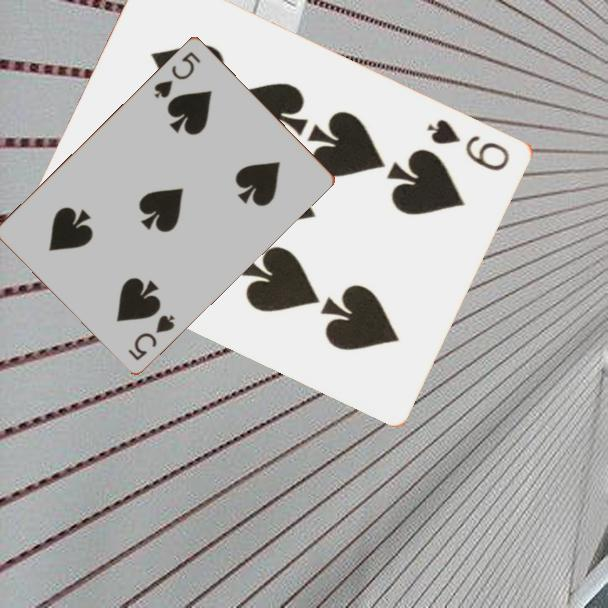s05: (151, 47, 203, 101), (125, 311, 178, 363)
s09: (424, 115, 513, 174)
